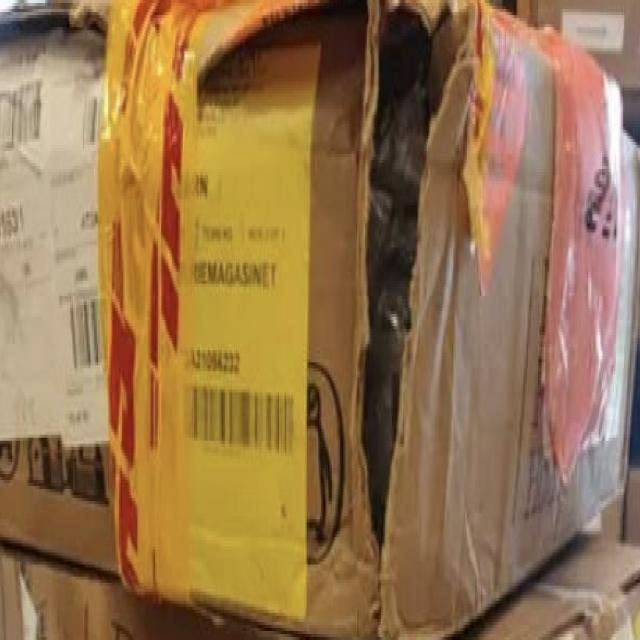hole: (353, 0, 469, 582)
